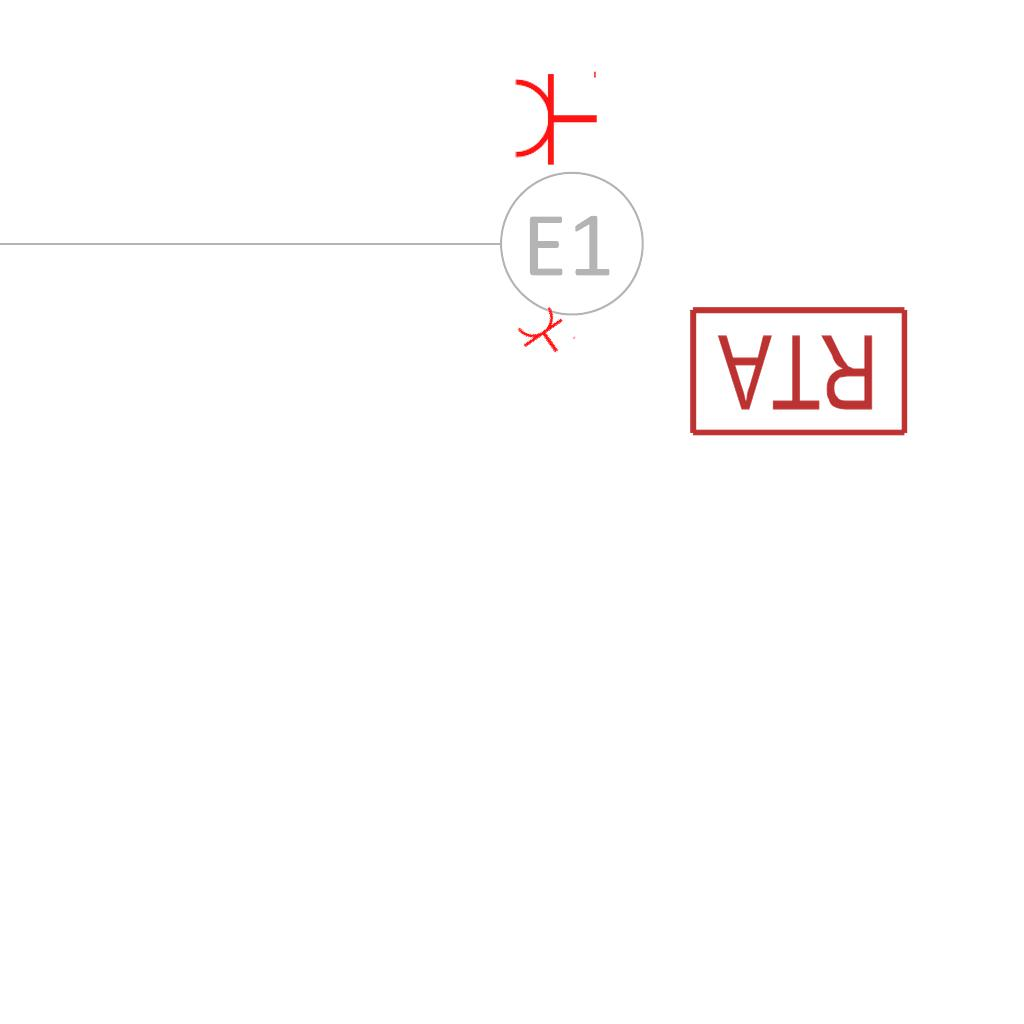Ruf-und_Abstelltaster: (687, 302, 915, 440)
Schukosteckdose_einfach: (512, 67, 599, 167), (512, 302, 579, 366)
